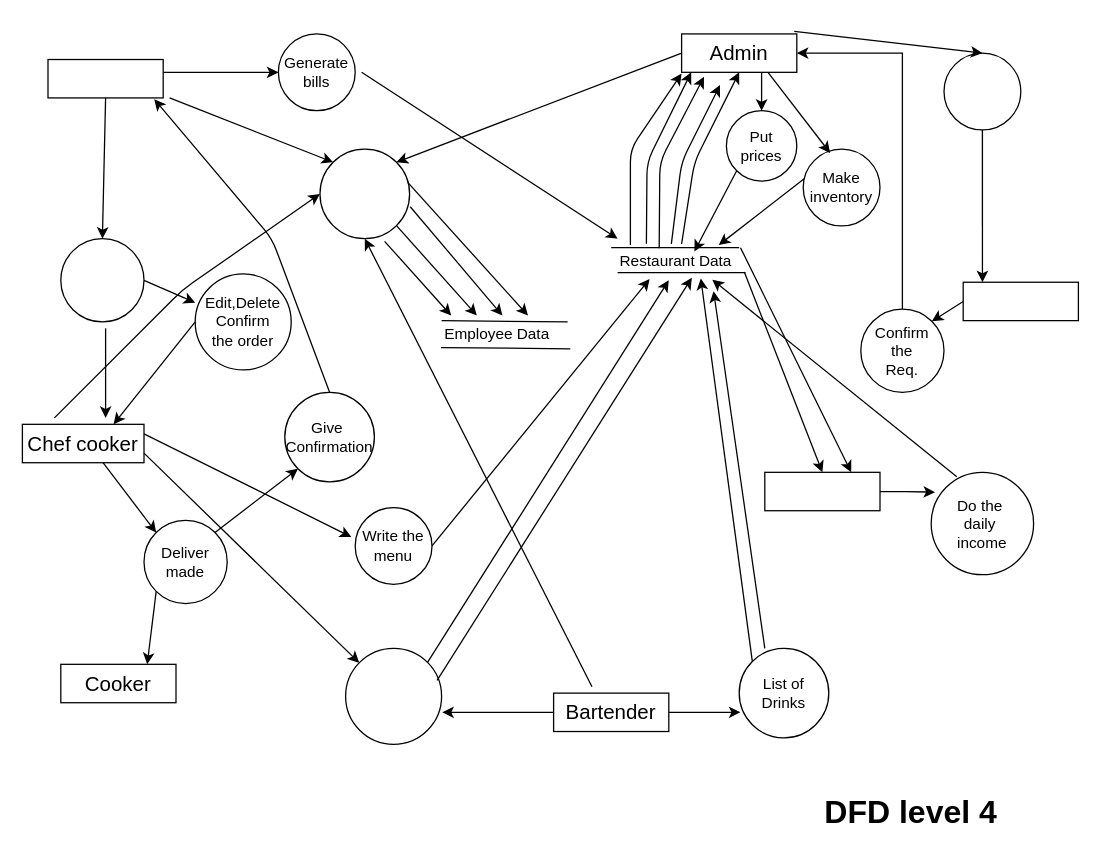
Image size: 1101x854. Some labels were removed from this diagram. The shapes that lost their labels are listed below. From the top down, each one's centre as x and y in pixels, then its label:
At (105,78): "Waiter".
At (982,91): "Request for product".
At (364,193): "Register in the System".
At (102,279): "Take the order".
At (1020,301): "Supplier".
At (822,491): "Accountant".
At (393,695): "Write the absent products".
